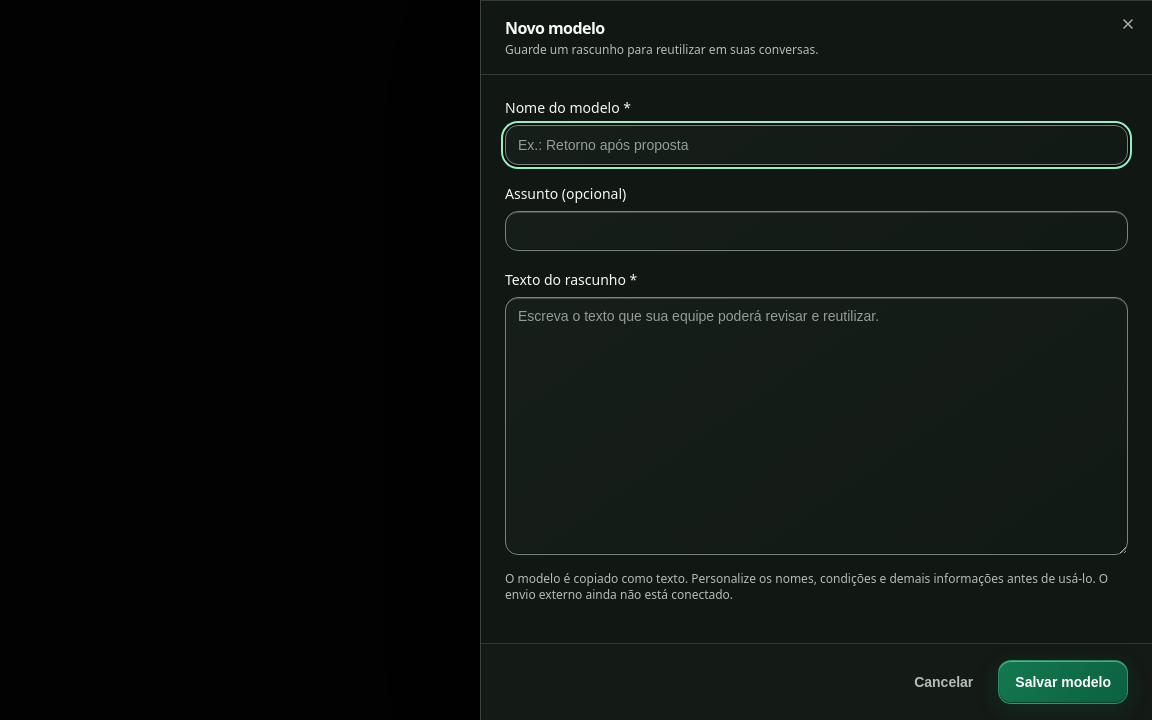
Test: recuperação de falha nos formulários de operação › preserva o corpo do modelo após erro de gravação
The width and height of the screenshot is (1152, 720).
Type "Retorno" into the field labelled "Nome do modelo *" at (816, 145), box [505, 125, 1128, 165]
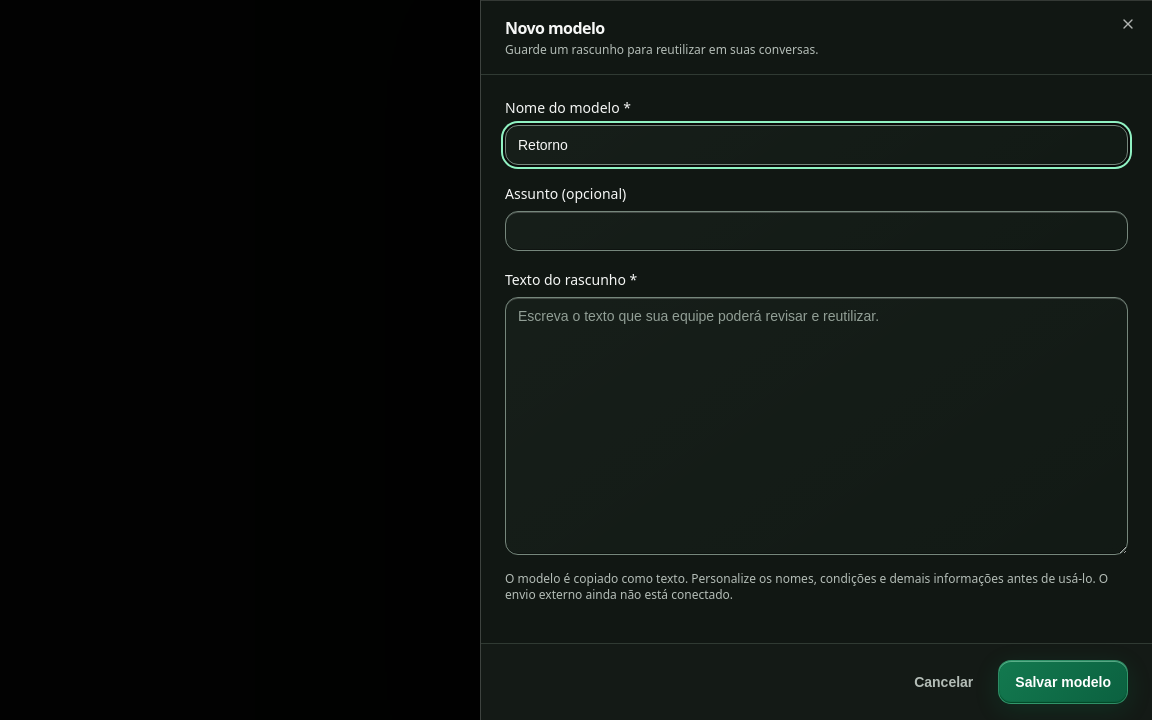
Type "Olá! Vamos combinar o próximo passo?" into the text box labelled "Texto do rascunho *" at (816, 426), box [505, 297, 1128, 555]
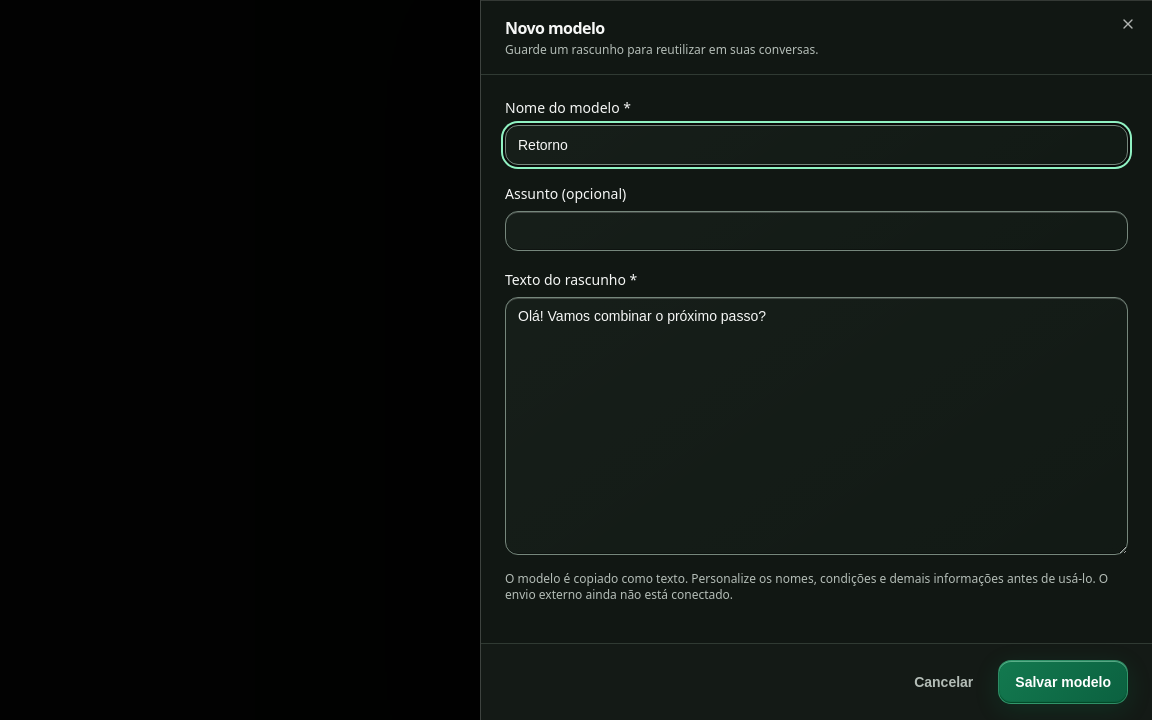
Click the button "Salvar modelo" at (1063, 682), box [998, 660, 1128, 704]
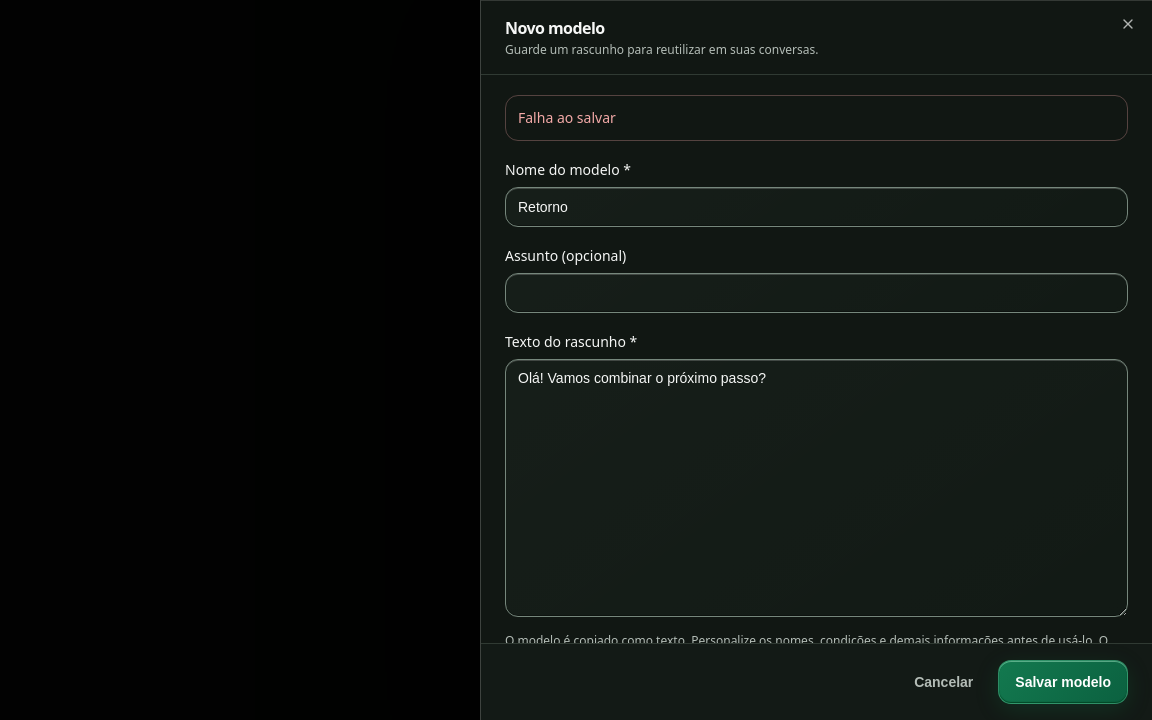
Now the text "Falha ao salvar" is shown, box [505, 95, 1128, 141]
